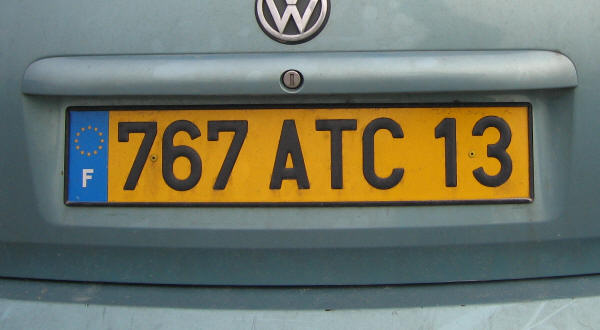license_plate: (62, 100, 536, 208)
